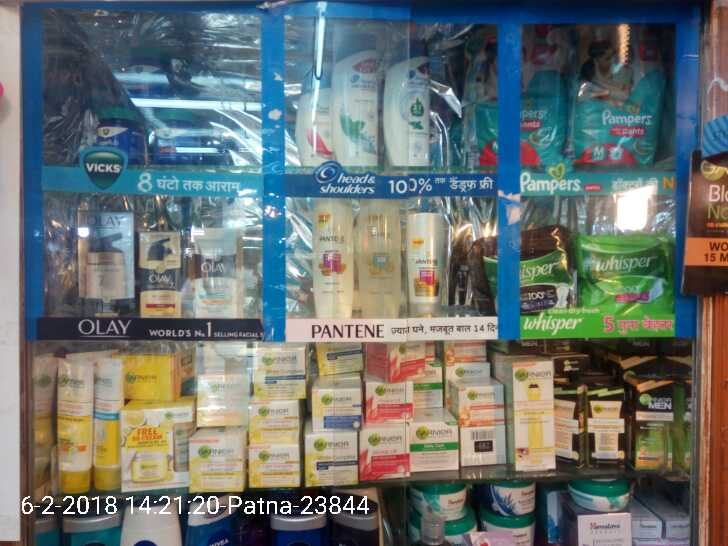beauty: (384, 34, 442, 167), (74, 215, 136, 329), (332, 31, 380, 168), (354, 196, 402, 318), (190, 226, 247, 324), (132, 223, 186, 320), (405, 204, 450, 315), (309, 193, 346, 315), (296, 52, 332, 168)
pharmacy: (565, 41, 663, 167), (579, 233, 671, 322), (147, 96, 211, 163), (88, 109, 138, 164)
